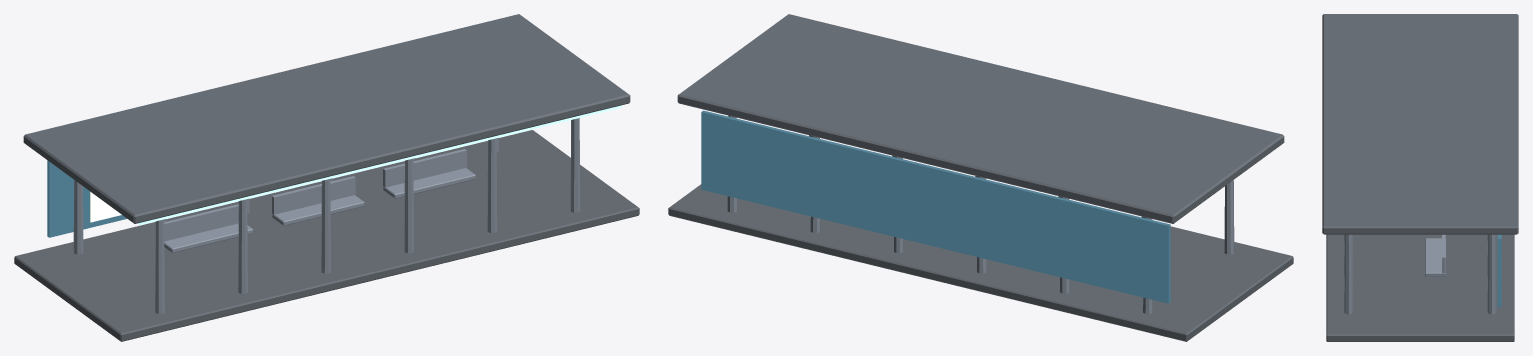
Rendered from transit_pavilion.glb.
3 views of the same model, side by side, from view 1: azimuth 30°, elevation 25°; view 2: azimuth 150°, elevation 25°; view 3: azimuth 270°, elevation 25° (orthographic). The views are drawn at different scales.
Visible parts, largest first — view 1: transit_pavilion_DarkAlloy@civic, transit_pavilion_Sidewalk, transit_pavilion_Steel@civic, transit_pavilion_BlackGlass, transit_pavilion_Cyan, transit_pavilion_WarmGlass; view 2: transit_pavilion_DarkAlloy@civic, transit_pavilion_BlackGlass, transit_pavilion_Sidewalk, transit_pavilion_Steel@civic; view 3: transit_pavilion_DarkAlloy@civic, transit_pavilion_Sidewalk, transit_pavilion_Steel@civic, transit_pavilion_BlackGlass.
Boxes of the visible parts, x1,y1,x2,y2 form: transit_pavilion_DarkAlloy@civic: [23, 14, 630, 223]; transit_pavilion_Sidewalk: [14, 130, 639, 341]; transit_pavilion_Steel@civic: [73, 118, 580, 313]; transit_pavilion_BlackGlass: [47, 160, 127, 237]; transit_pavilion_Cyan: [138, 105, 622, 224]; transit_pavilion_WarmGlass: [90, 192, 121, 222]; transit_pavilion_DarkAlloy@civic: [677, 14, 1284, 223]; transit_pavilion_BlackGlass: [701, 110, 1170, 303]; transit_pavilion_Sidewalk: [668, 184, 1293, 341]; transit_pavilion_Steel@civic: [727, 115, 1234, 313]; transit_pavilion_DarkAlloy@civic: [1322, 14, 1518, 234]; transit_pavilion_Sidewalk: [1326, 234, 1514, 341]; transit_pavilion_Steel@civic: [1344, 234, 1496, 314]; transit_pavilion_BlackGlass: [1497, 234, 1501, 307].
Bounding box in the file's own units: 14 × 3.24 × 5.2.
